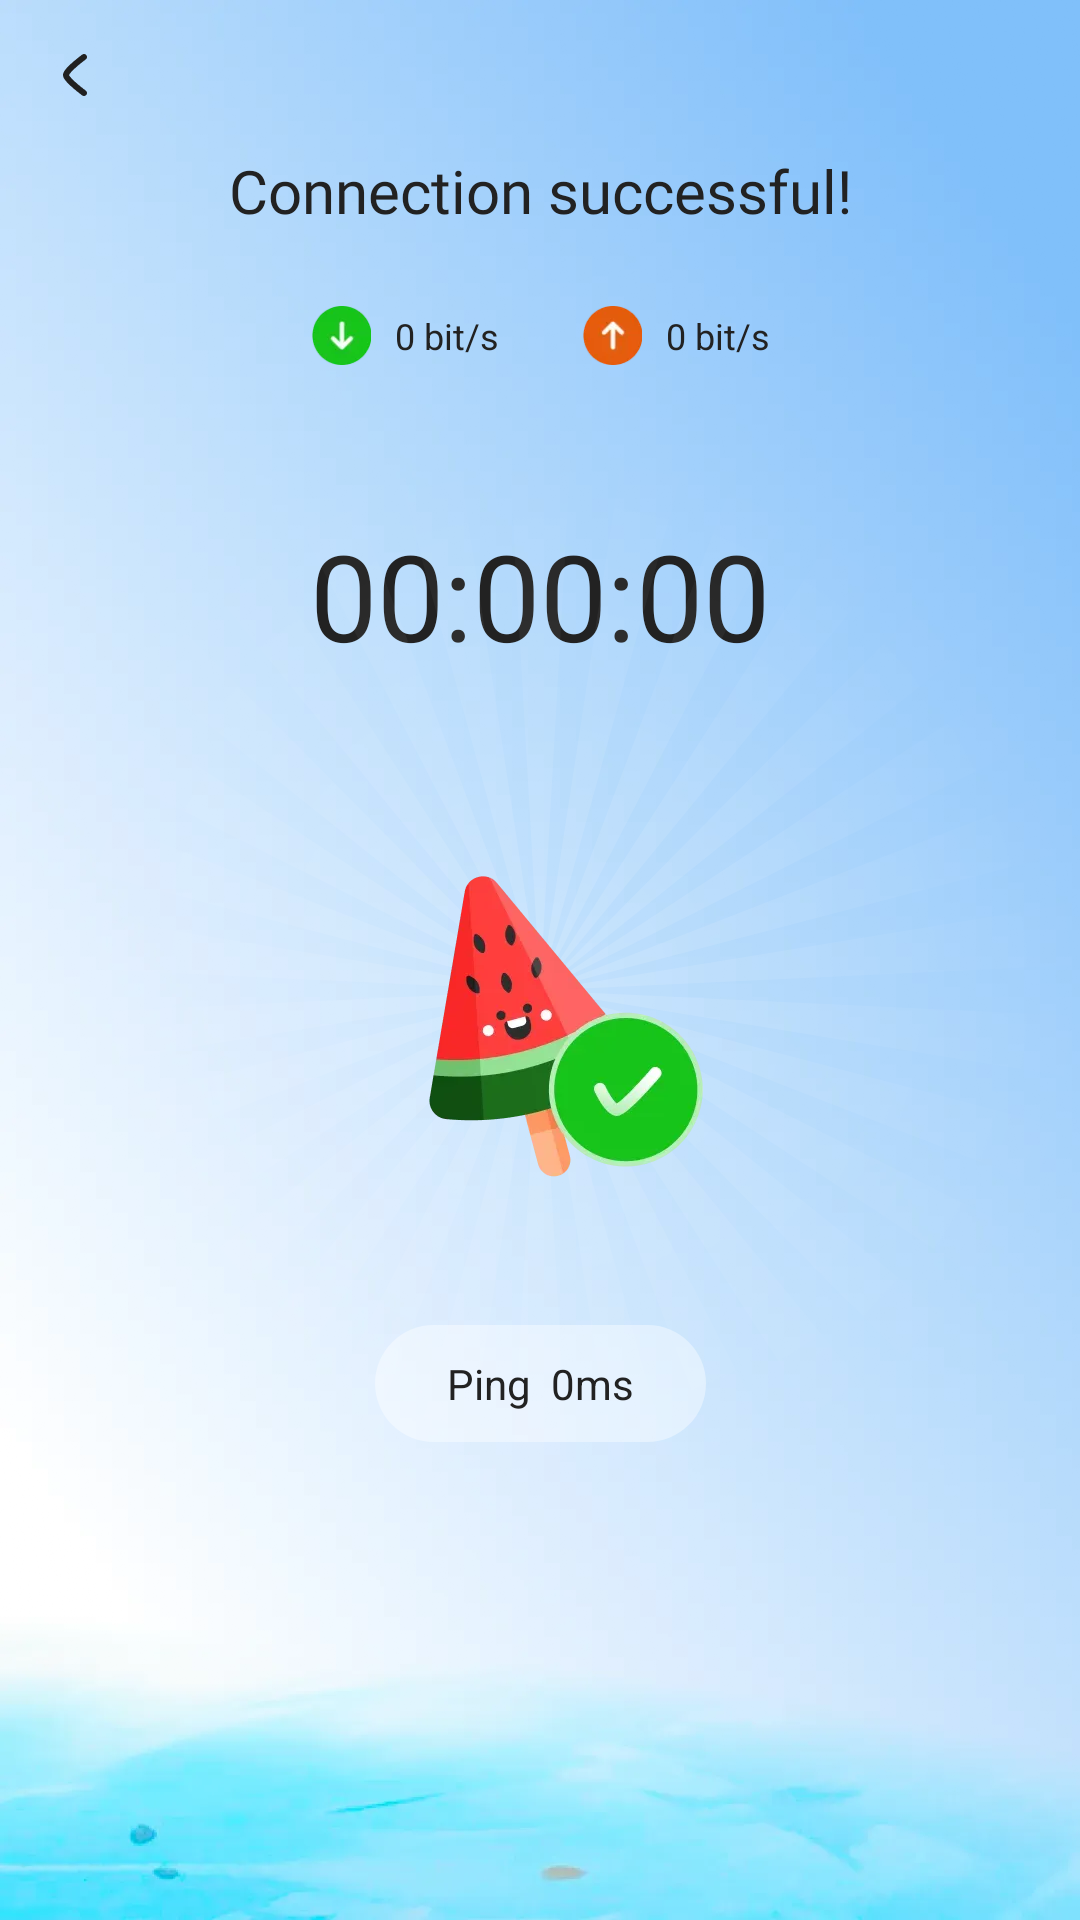

Named icons in this screenshot (1080px x 1920px) and their centers, point (x, y):
back: point (75, 75)
